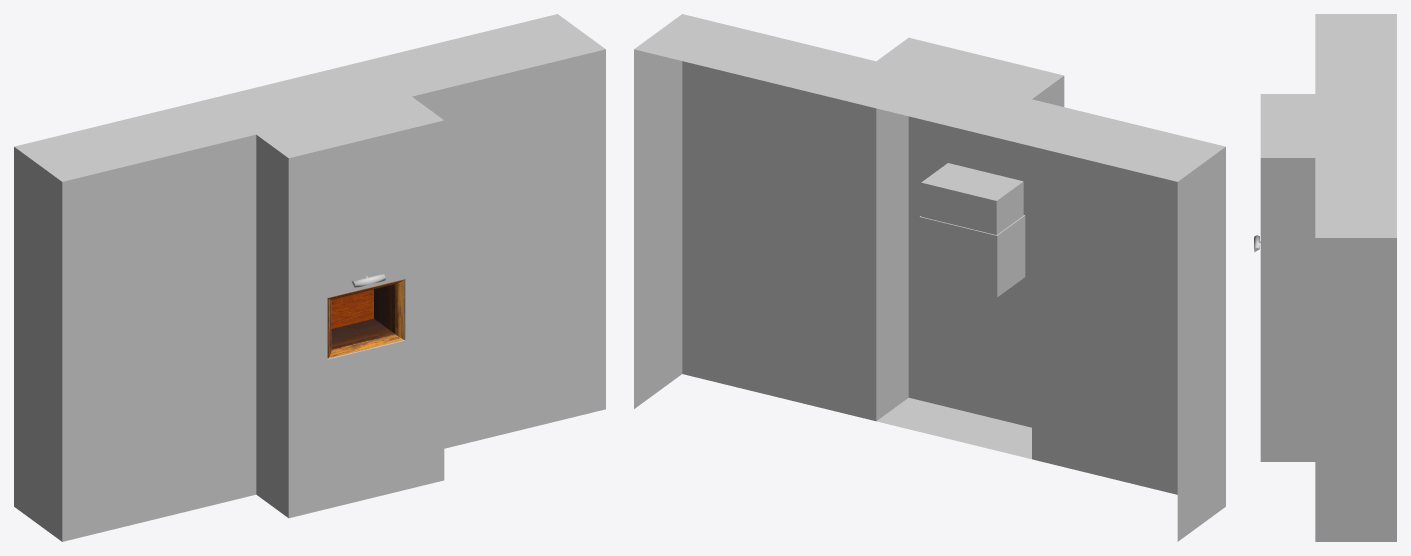
File: BookShelfWall.fbx
3 views of the same model, side by side, from view 1: azimuth 30°, elevation 25°; view 2: azimuth 150°, elevation 25°; view 3: azimuth 270°, elevation 25° (orthographic). The views are drawn at different scales.
Visible parts, largest first — view 1: Shelf, BooksCompartment; view 2: Shelf; view 3: Shelf.
Boxes of the visible parts, x1,y1,x2,y2 form: Shelf: (14,14,605,541); BooksCompartment: (327,279,404,358); Shelf: (634,14,1225,541); Shelf: (1260,14,1396,541).
Bounding box in the file's own units: 699 × 442 × 188.
